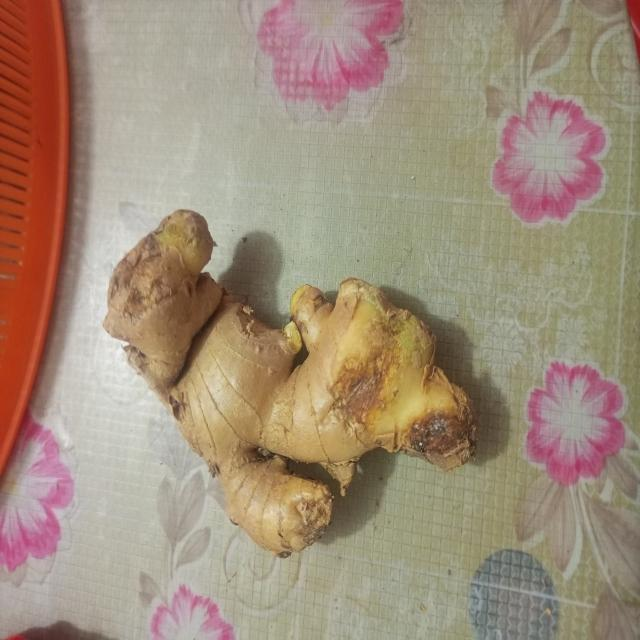ginger: (110, 206, 472, 542)
